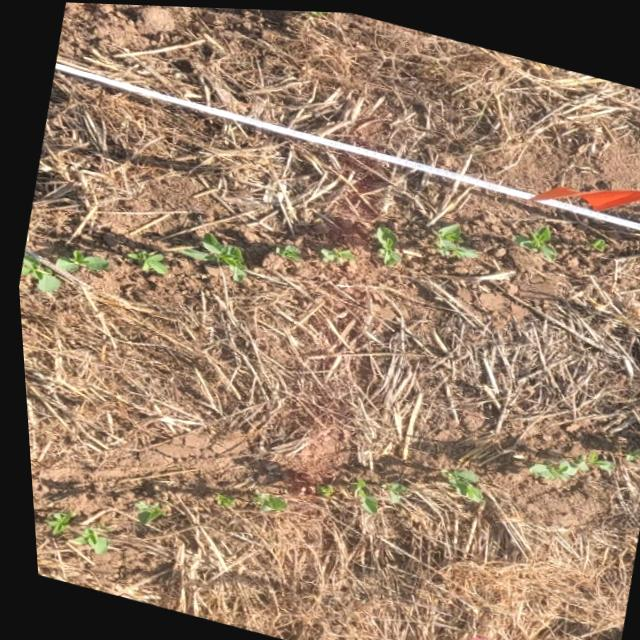soy_plant: (17, 249, 103, 292), (176, 232, 245, 278), (522, 446, 608, 476), (435, 466, 477, 498), (511, 222, 551, 255), (433, 220, 465, 253), (124, 247, 164, 273), (374, 222, 399, 262), (66, 525, 102, 552), (347, 475, 372, 508), (128, 498, 160, 523), (244, 489, 280, 509), (371, 477, 400, 500), (40, 510, 67, 534), (317, 244, 351, 260), (397, 418, 408, 455), (272, 242, 297, 258), (209, 490, 230, 505), (619, 443, 637, 455), (589, 233, 603, 246), (311, 481, 326, 493)
